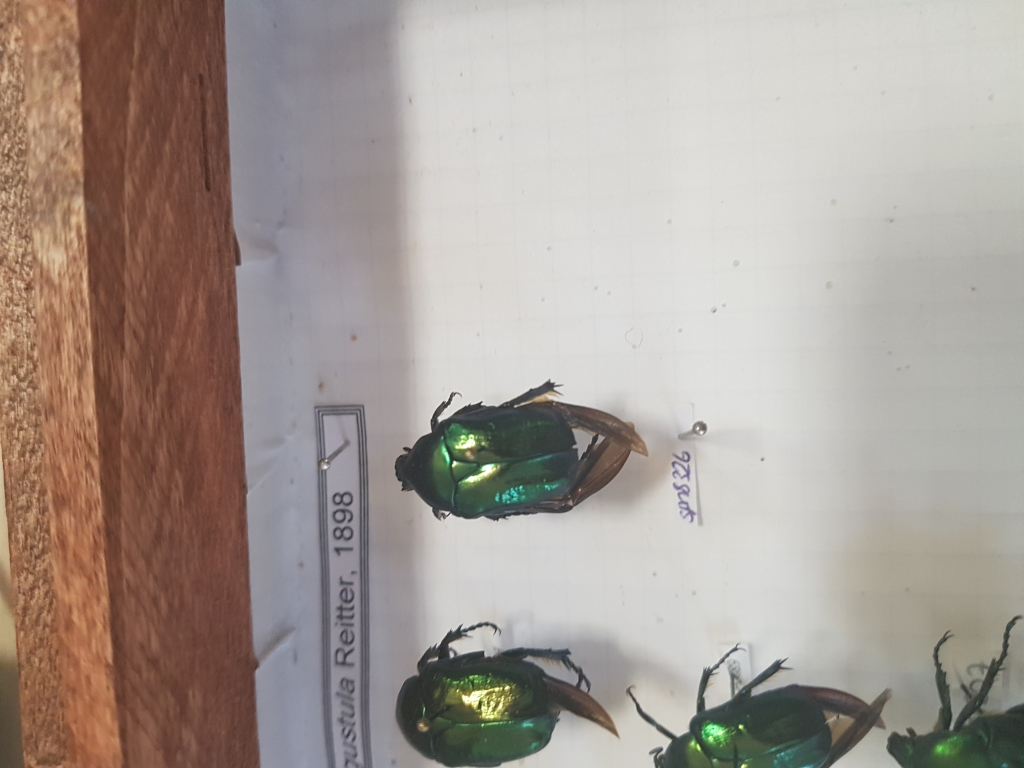Protaetia_angustata_angustata: (385, 372, 598, 521), (610, 644, 837, 768), (381, 611, 557, 768)
